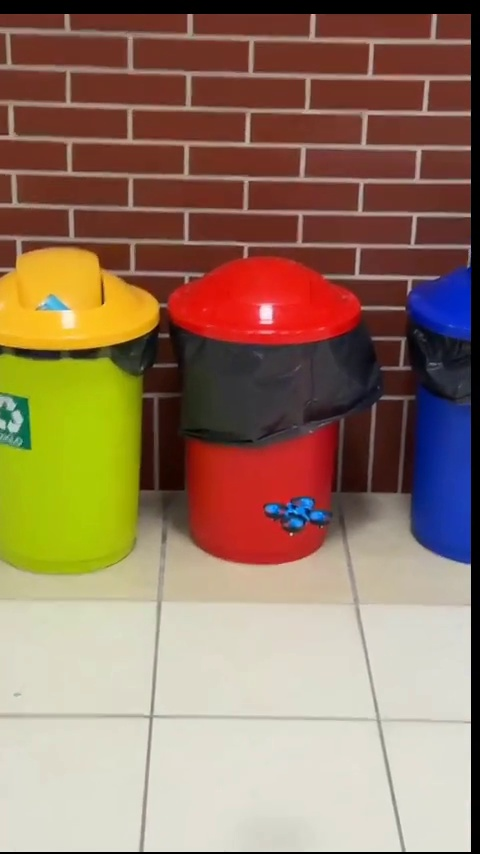drone: (263, 494, 331, 538)
